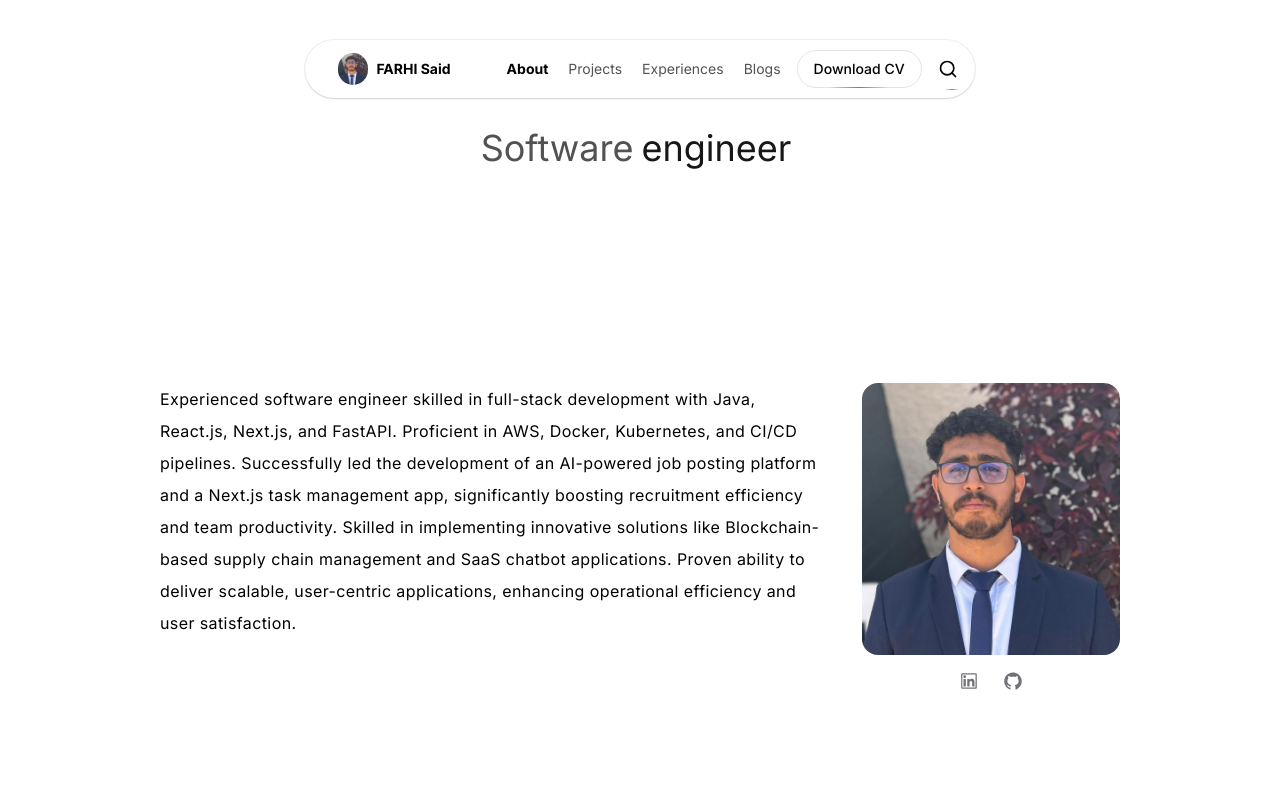
Scenario: FloatingNav Component › should open the modal, search for "React", and show results
Step 1. Click the button with class "search" → (952, 69), box [938,49,966,89]
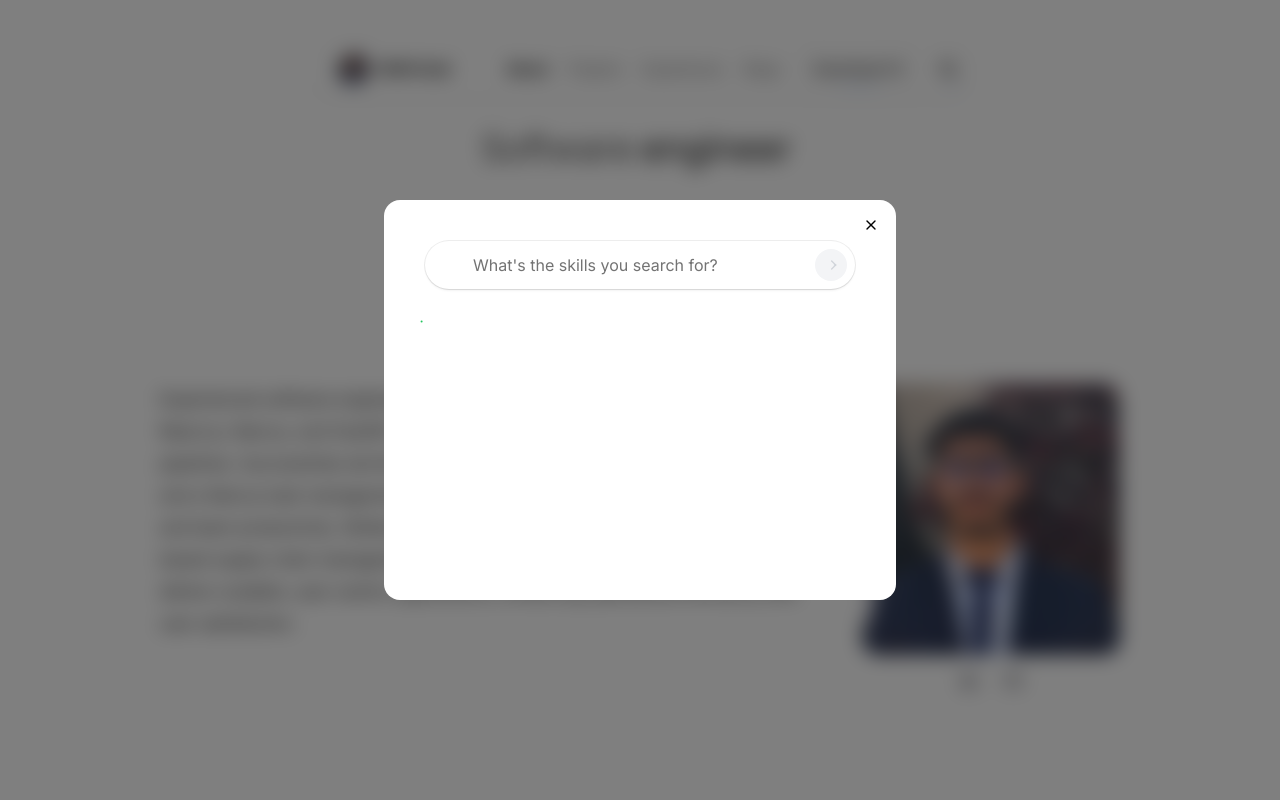
Step 2. Type "React" into the field → (640, 265), box [425,241,855,289]
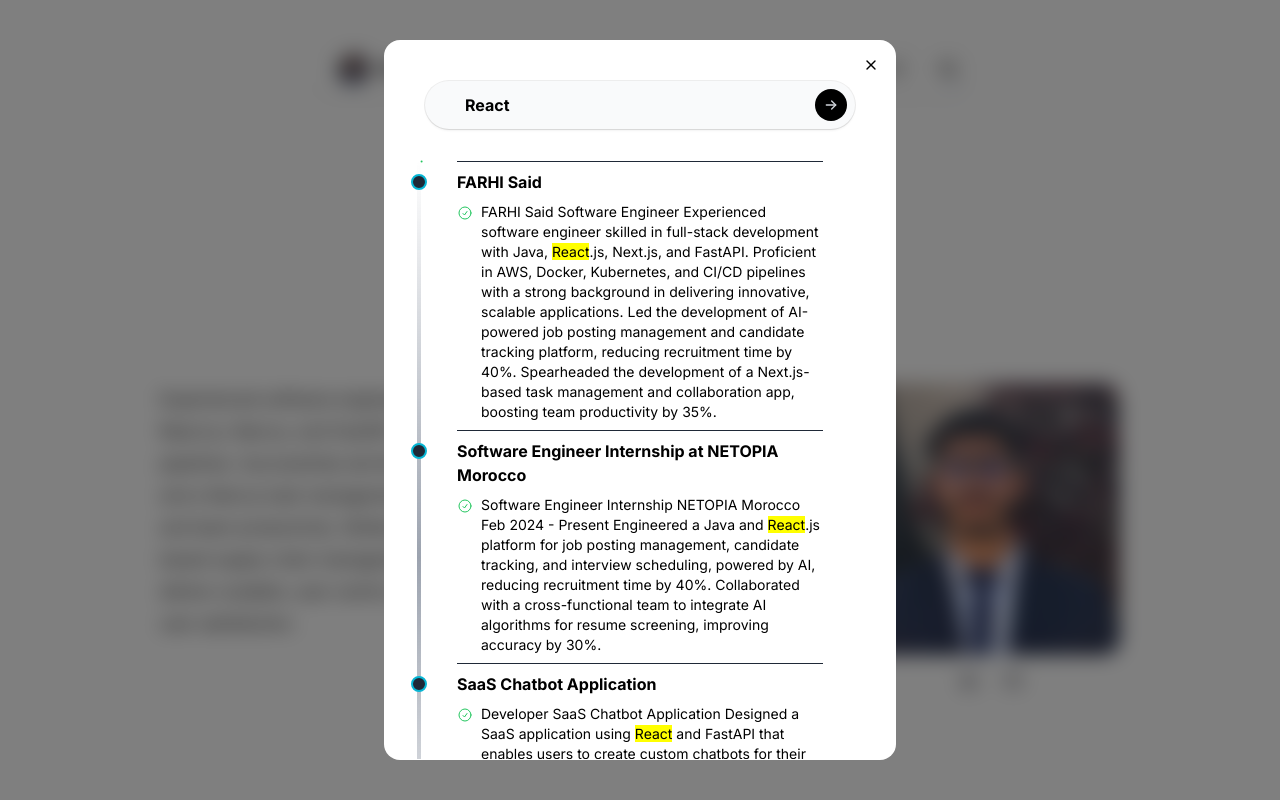
Now the text "React.js" is shown, box [481,203,819,420]
